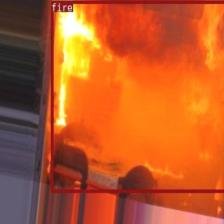fire: (50, 0, 224, 192)
